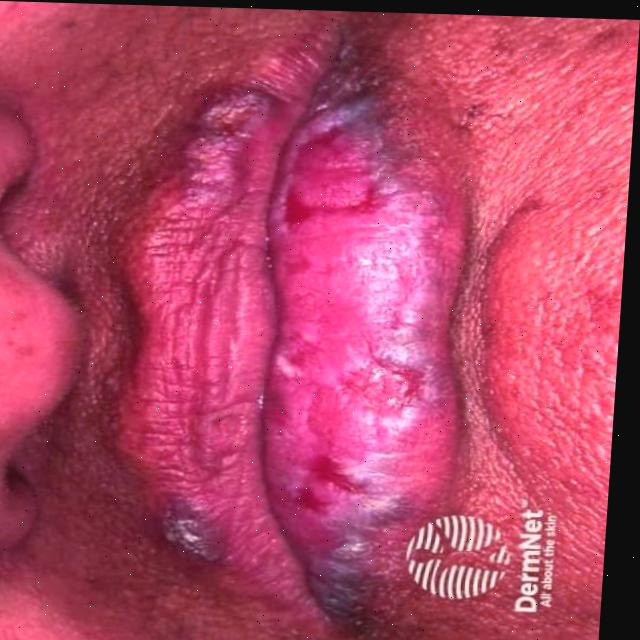lupus-detected: (90, 43, 504, 625)
